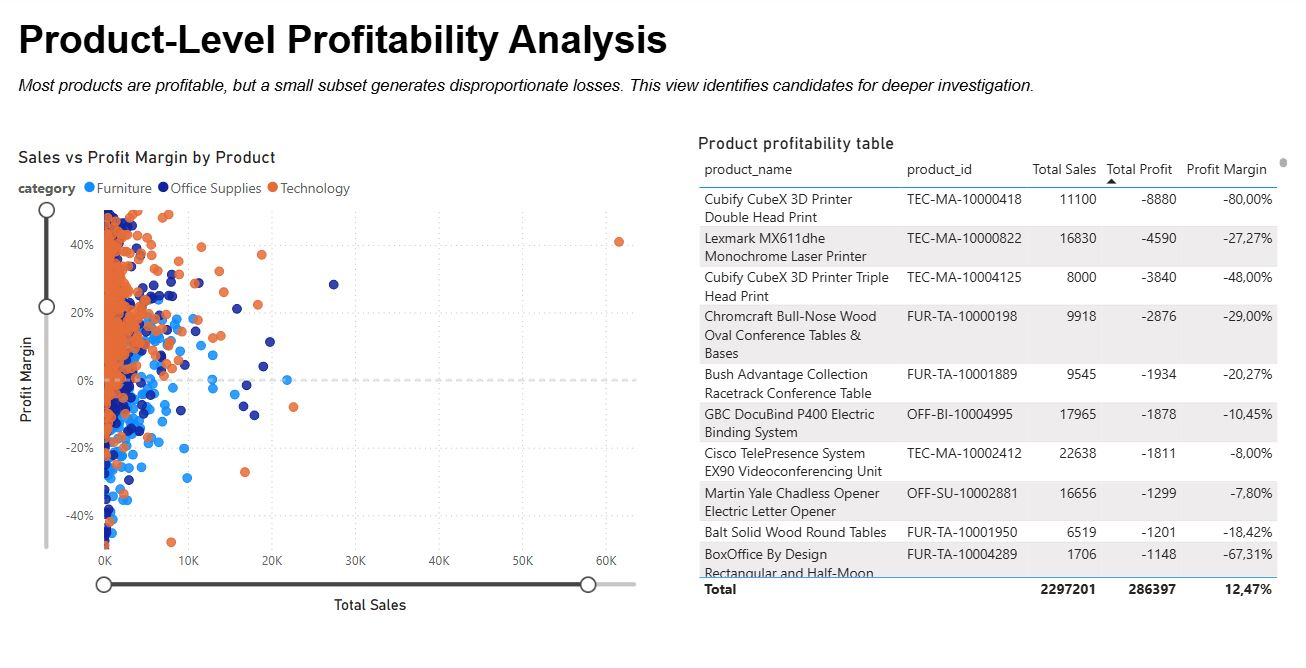

The dashboard page shown, as its layout file describes it:
{"tool":"powerbi","page":{"name":"Product-Level Profitability","canvas":[1280,720],"ordinal":1},"visuals":[{"type":"tableEx","title":"Product profitability table","fields":{"Values":["superstore_final_df.product_name","superstore_final_df.product_id","superstore_final_df.Total Sales","superstore_final_df.Total Profit","superstore_final_df.Profit Margin"]},"box":[678.9,132.7,579.3,454.9],"z":0},{"type":"scatterChart","title":"Sales vs Profit Margin by Product","fields":{"Y":["superstore_final_df.Profit Margin"],"X":["superstore_final_df.Total Sales"],"Series":["superstore_final_df.category"],"Category":["superstore_final_df.product_id"]},"box":[23.5,146.6,616.6,454.9],"z":1000},{"type":"textbox","box":[22.9,16.9,816.8,56.7],"z":2000},{"type":"textbox","box":[23.5,73.3,1039.7,41.5],"z":3000}]}

Visuals, with their boxes on the page's 1280x720 design canvas (x1, y1, x2, y2). These are canvas units, not pixel positions in the 1306x668 screenshot, which may show the page scaled, cropped or inside an application window:
"Product profitability table" tableEx: <box>679,133,1258,588</box>
"Sales vs Profit Margin by Product" scatterChart: <box>24,147,640,602</box>
textbox: <box>23,17,840,74</box>
textbox: <box>24,73,1063,115</box>
